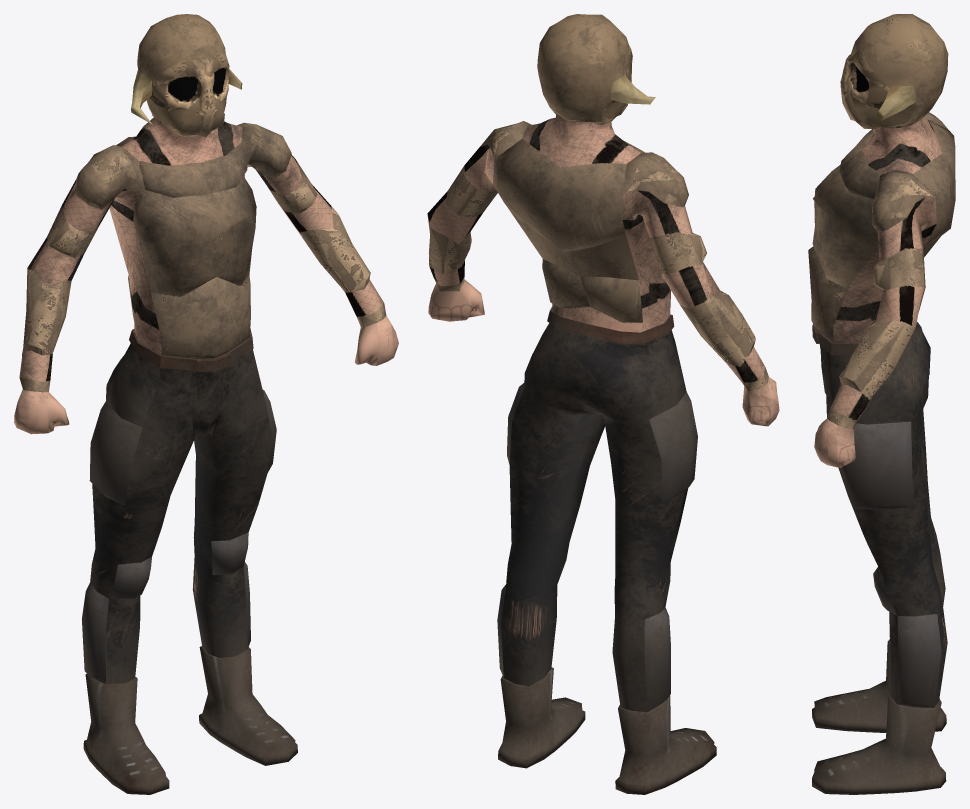
File: Anim_idle_npc1.0047.obj
3 views of the same model, side by side, from view 1: azimuth 30°, elevation 25°; view 2: azimuth 150°, elevation 25°; view 3: azimuth 270°, elevation 25° (orthographic). The views are drawn at different scales.
Visible parts, largest first — view 1: NPC2; view 2: NPC2; view 3: NPC2.
Boxes of the visible parts, x1,y1,x2,y2 form: NPC2: (14,14,398,794); NPC2: (427,14,779,794); NPC2: (808,14,955,794).
Size of the model in its own units: 4.99 by 9.67 by 1.75.
